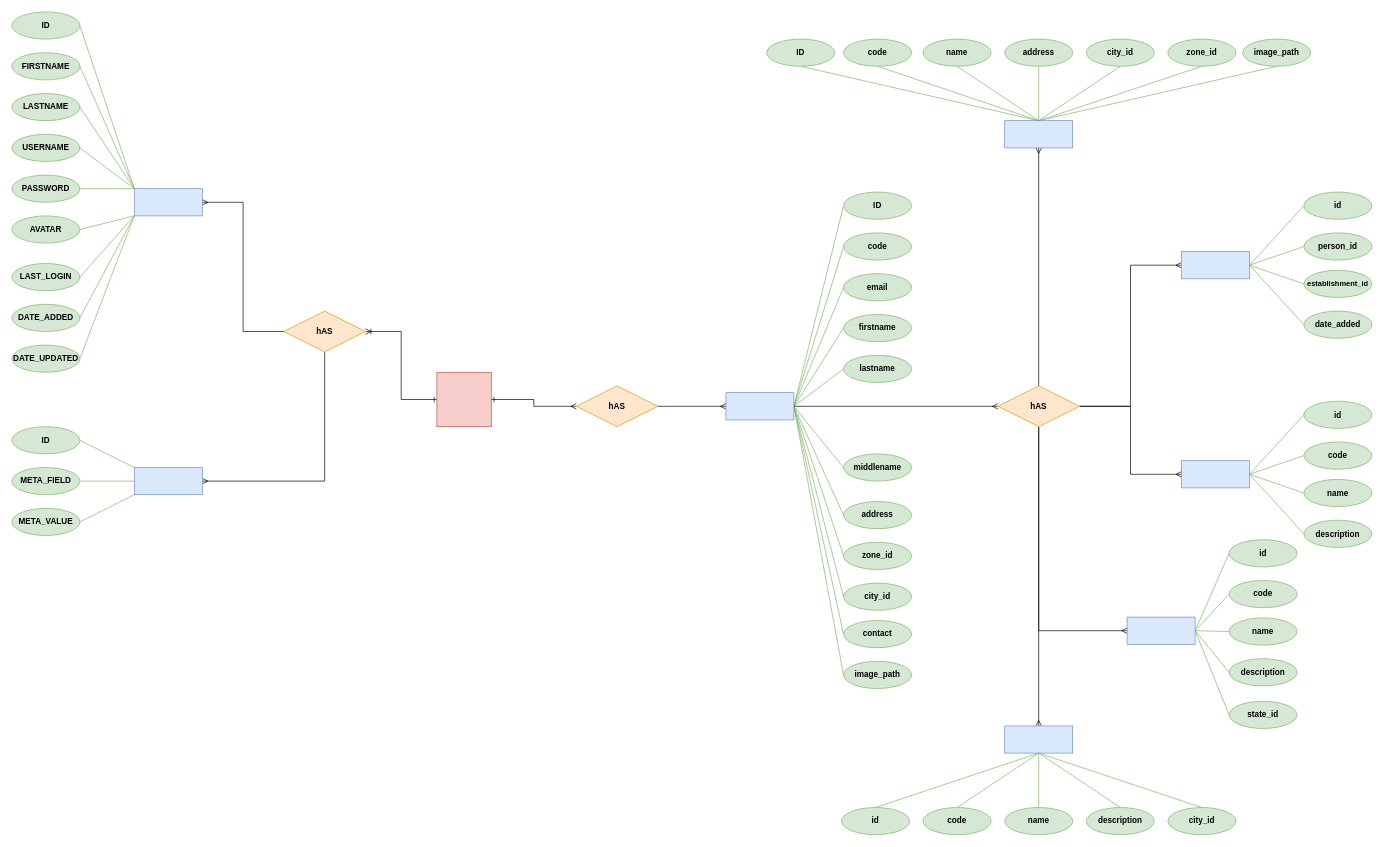
The diagram is 1384 pixels wide and 847 high, and some of its shapes have lost their labels. The centre of each missing label's shape, as x and y in pixels:
"barangay_list" goes at [1038,739].
"city_list" goes at [1160,630].
"CONTACT TRACING STSTEM" goes at [463,399].
"establishment" goes at [1038,134].
"people" goes at [759,406].
"state_list" goes at [1215,474].
"SYSTEM_INFO" goes at [168,481].
"tracks" goes at [1215,265].
"USERs" goes at [168,202].
